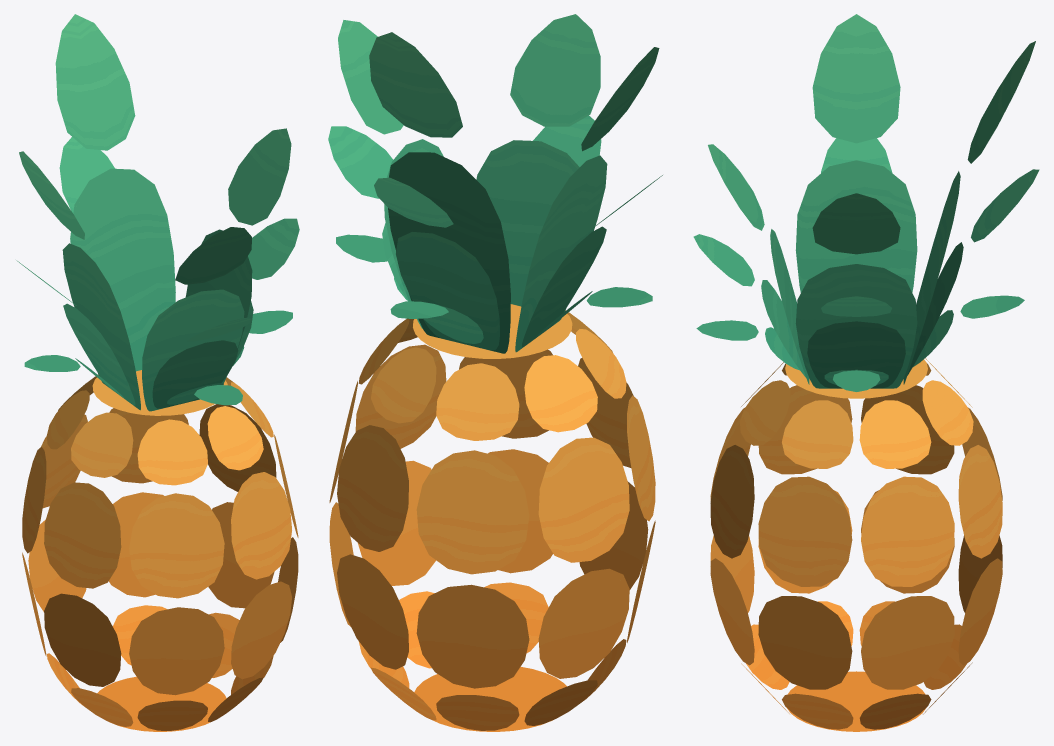
File: pineapple.glb
3 renders of one model, left to right at view 1: azimuth 30°, elevation 25°; view 2: azimuth 150°, elevation 25°; view 3: azimuth 270°, elevation 25°, orthographic. The views are drawn at different scales.
Visible parts, largest first — view 1: pineapple; view 2: pineapple; view 3: pineapple.
Part boxes in pixels (bbox=[...]): pineapple: bbox=[16, 14, 299, 731]; pineapple: bbox=[328, 14, 662, 731]; pineapple: bbox=[693, 14, 1039, 731].
Bounding box in the file's own units: 0.2016 × 0.4312 × 0.2046.
1 material, 1 textured.
